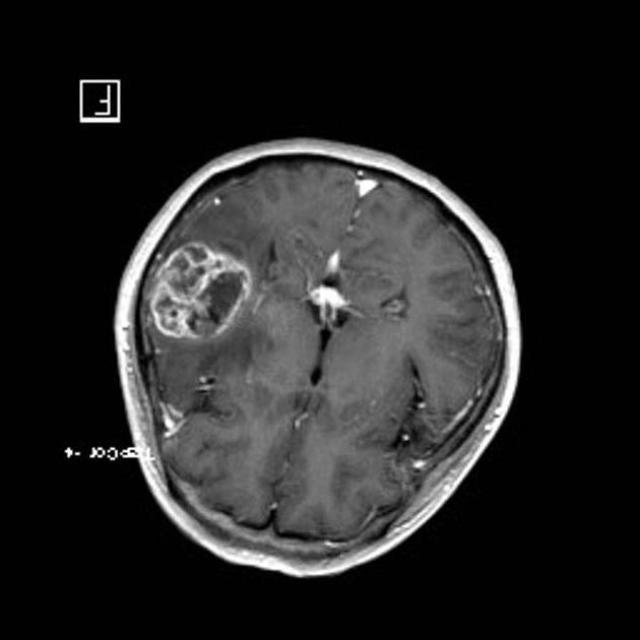Tumor-Cell: (147, 230, 263, 365)
